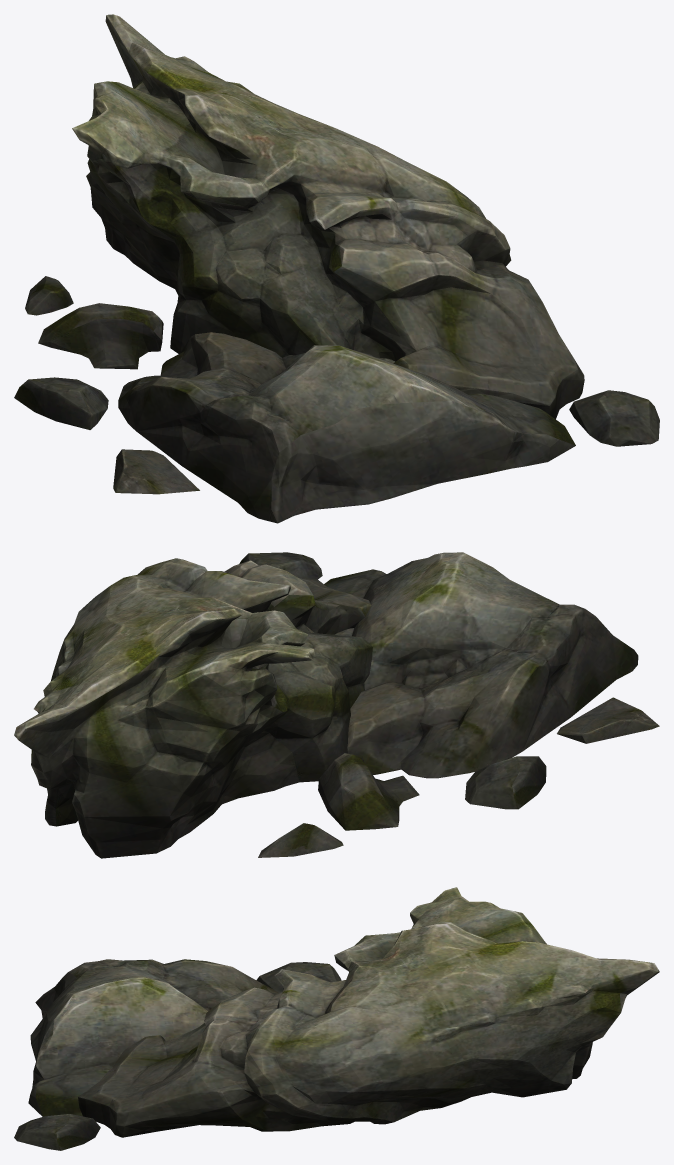
3 renders of one model, top to bottom at view 1: azimuth 30°, elevation 25°; view 2: azimuth 150°, elevation 25°; view 3: azimuth 270°, elevation 25°, orthographic. The views are drawn at different scales.
Bounding box in the file's own units: 7.3 × 2.72 × 10.8.
Materials: 1 (1 with a texture image).
